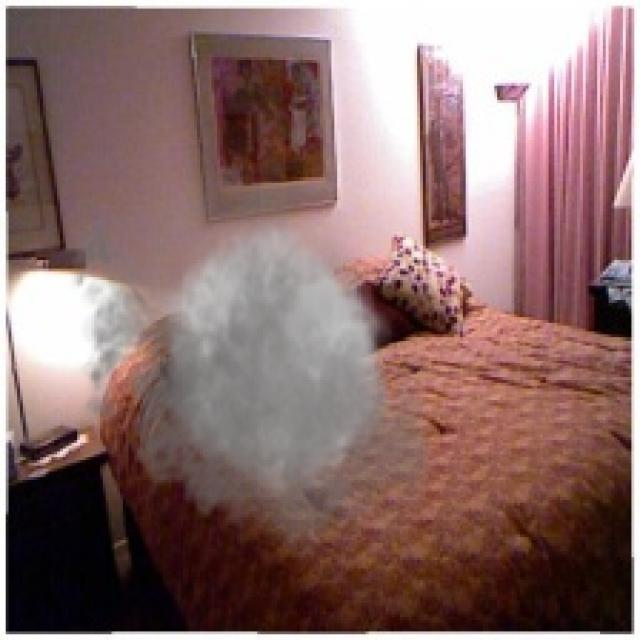Smoke: (60, 152, 446, 572)
